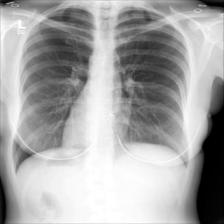normal: (7, 5, 191, 175)
